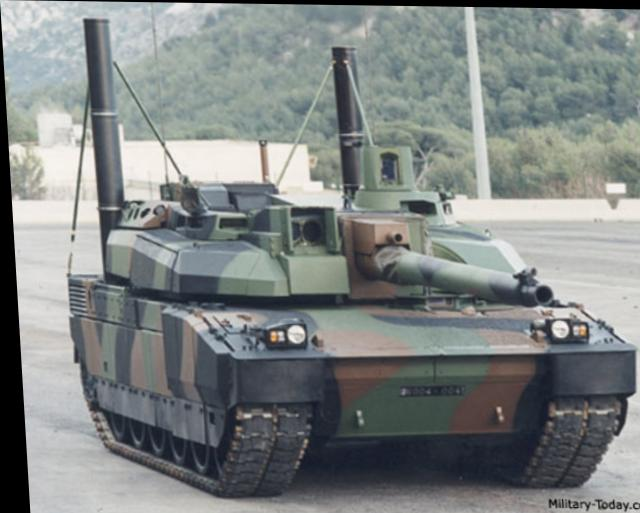tank: (41, 164, 625, 494)
